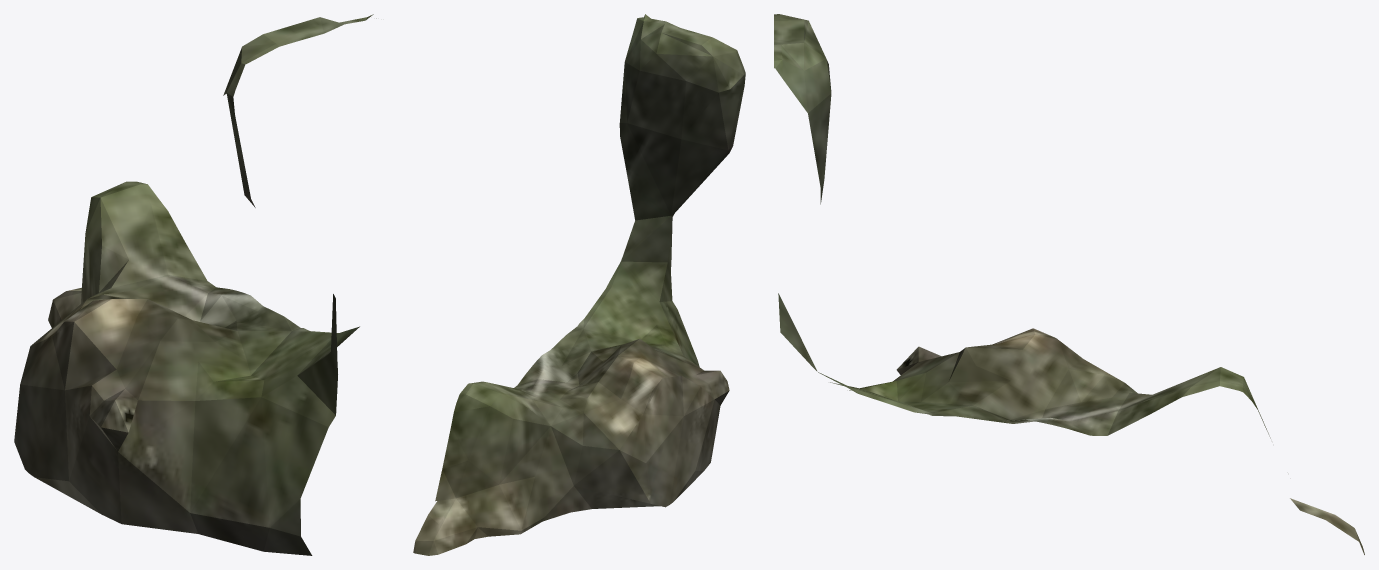
The picture shows the model from 3 angles, left to right: view 1: azimuth 30°, elevation 25°; view 2: azimuth 150°, elevation 25°; view 3: azimuth 270°, elevation 25°; orthographic projection. The views are drawn at different scales.
Size of the model in its own units: 0.7498 by 1.83 by 1.98.
Materials: 1 (1 with a texture image).
